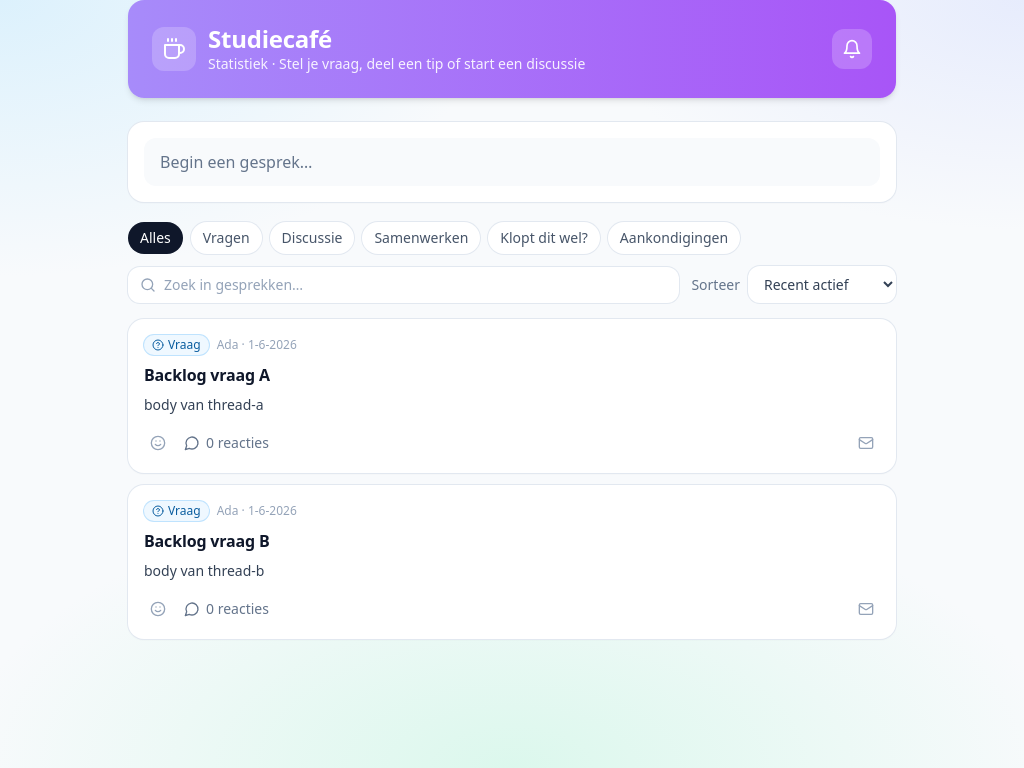
StudiecafePage — bewust ongelezen markeren › "alles gelezen" wist alle markeringen
Expected: the element with test id "thread-thread-a" is shown, top-left (128, 319), bottom-right (896, 473)
Click the button with test id "button-mark-unread-thread-a": point(866, 443) top-left (852, 429), bottom-right (880, 457)
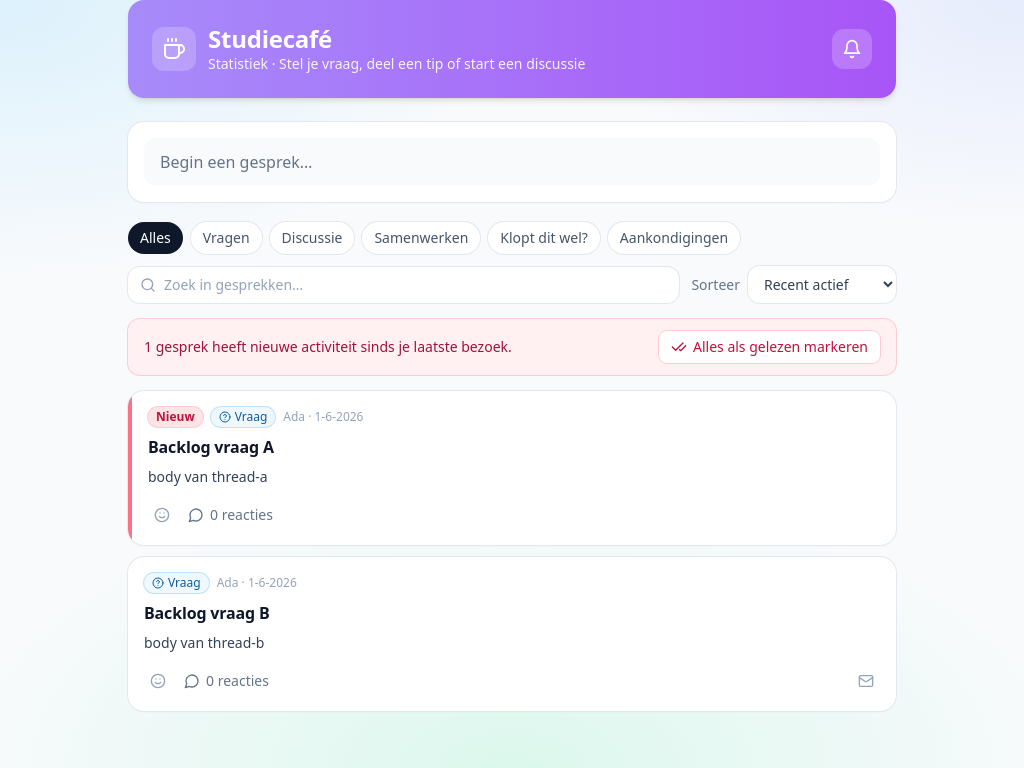
Click the button with test id "button-mark-unread-thread-b": point(866, 681) top-left (852, 667), bottom-right (880, 695)
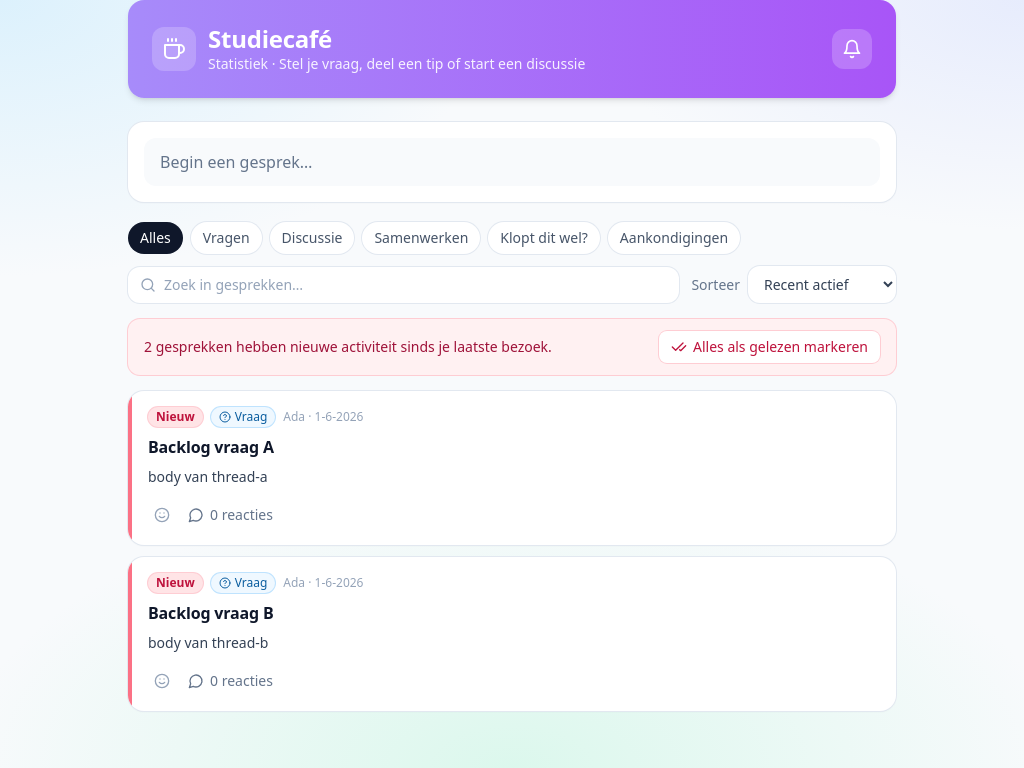
Expected: the text with test id "badge-unread-thread-a" is shown, top-left (148, 407), bottom-right (203, 427)
Expected: the element with test id "banner-unread" is shown, top-left (128, 319), bottom-right (896, 375)
Expected: the text with test id "badge-unread-thread-b" is shown, top-left (148, 573), bottom-right (203, 593)
Click the button with test id "button-mark-all-read": point(770, 347) top-left (659, 331), bottom-right (880, 363)
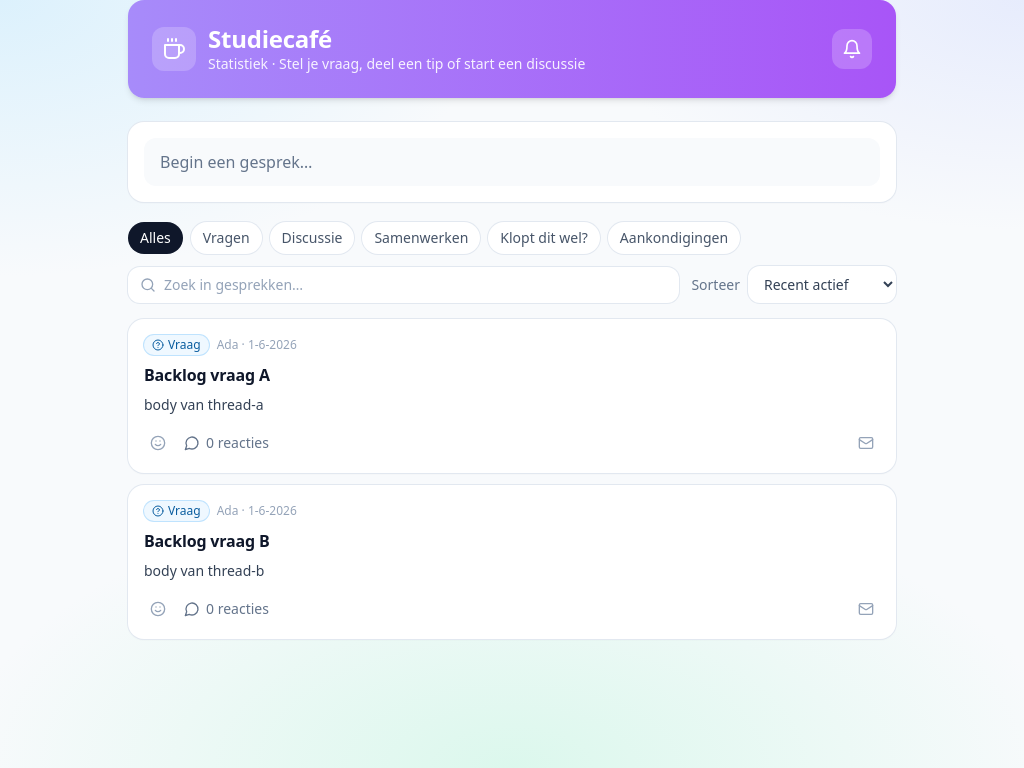
Expected: the text with test id "badge-unread-thread-a" is gone
Expected: the text with test id "badge-unread-thread-b" is gone
Expected: the element with test id "banner-unread" is gone
